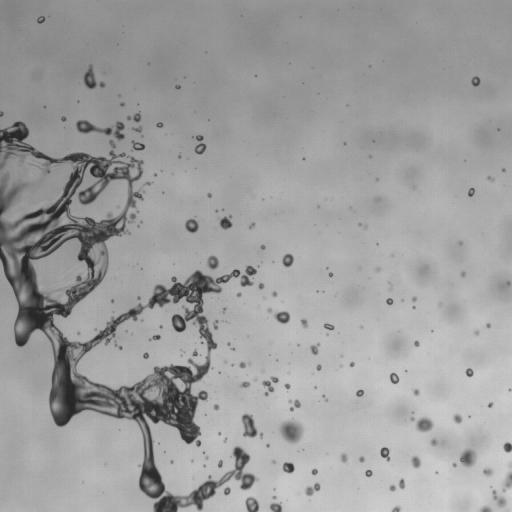droplet: (278, 417, 304, 443), (241, 412, 263, 439), (83, 64, 105, 89), (266, 306, 290, 324), (410, 416, 434, 433), (261, 376, 279, 396), (459, 448, 477, 467), (184, 216, 199, 233), (194, 134, 206, 154), (217, 214, 232, 230), (304, 482, 321, 496), (206, 254, 219, 272), (245, 496, 259, 511), (281, 253, 294, 267), (126, 110, 141, 122), (130, 140, 146, 151), (380, 446, 391, 462), (288, 398, 301, 411), (309, 342, 321, 355), (410, 455, 421, 468), (282, 462, 295, 473), (482, 466, 494, 477), (269, 501, 282, 511), (115, 140, 126, 151), (89, 147, 100, 158), (142, 186, 153, 197), (105, 235, 116, 246), (208, 268, 219, 279), (71, 302, 82, 313), (51, 313, 62, 324), (288, 314, 299, 325), (80, 331, 91, 342), (318, 335, 329, 346), (44, 357, 55, 368), (237, 369, 248, 380), (41, 380, 52, 391), (189, 382, 200, 393), (287, 388, 298, 399), (290, 410, 301, 421), (281, 411, 292, 422), (191, 413, 202, 424), (126, 418, 137, 429), (270, 422, 281, 433), (132, 430, 143, 441), (299, 430, 310, 441), (275, 434, 286, 445), (297, 434, 308, 445), (133, 453, 144, 464), (224, 458, 235, 469), (472, 459, 483, 470), (154, 460, 165, 471), (495, 469, 506, 480), (228, 477, 239, 488), (492, 477, 503, 488), (163, 483, 174, 494), (181, 484, 192, 495), (389, 372, 399, 384), (452, 413, 462, 424), (502, 441, 511, 452), (340, 452, 348, 464), (471, 76, 480, 86), (131, 125, 142, 133), (238, 381, 250, 388), (398, 477, 405, 489), (464, 368, 473, 377), (364, 468, 373, 477), (93, 73, 102, 82), (124, 119, 133, 128), (71, 144, 80, 153), (55, 149, 64, 158), (133, 150, 142, 159), (491, 168, 500, 177), (131, 181, 140, 190), (201, 266, 210, 275), (231, 276, 240, 285), (163, 280, 172, 289), (262, 285, 271, 294), (140, 295, 149, 304), (128, 299, 137, 308), (10, 305, 19, 314), (32, 328, 41, 337), (311, 354, 320, 363), (423, 410, 432, 419), (70, 413, 79, 422), (170, 427, 179, 436), (424, 429, 433, 438), (241, 444, 250, 453), (347, 453, 356, 462), (242, 464, 251, 473), (483, 475, 492, 484), (214, 485, 223, 494), (244, 487, 253, 496), (487, 499, 496, 508), (300, 318, 308, 328), (430, 437, 438, 446), (390, 505, 401, 511), (505, 488, 511, 499), (144, 505, 155, 511), (186, 505, 197, 511), (200, 505, 211, 511), (258, 505, 269, 511), (490, 505, 501, 511), (356, 389, 364, 397), (412, 388, 420, 396), (486, 175, 495, 182), (468, 187, 475, 196), (217, 459, 224, 468), (223, 486, 230, 495), (37, 16, 45, 23), (247, 222, 255, 229), (0, 119, 5, 130), (284, 383, 290, 392), (271, 290, 278, 297), (386, 298, 393, 305), (142, 352, 149, 359), (310, 468, 317, 475), (389, 484, 396, 491), (79, 82, 86, 89), (89, 118, 96, 125), (100, 122, 107, 129), (87, 130, 94, 137), (78, 131, 85, 138), (99, 132, 106, 139), (108, 132, 115, 139), (34, 144, 41, 151), (138, 176, 145, 183), (217, 211, 224, 218), (124, 222, 131, 229), (187, 267, 194, 274), (239, 268, 246, 275), (177, 276, 184, 283), (251, 282, 258, 289), (94, 284, 101, 291), (146, 290, 153, 297), (201, 291, 208, 298), (85, 292, 92, 299), (276, 305, 283, 312), (121, 306, 128, 313), (259, 307, 266, 314), (216, 312, 223, 319), (222, 312, 229, 319), (98, 323, 105, 330), (479, 325, 486, 332), (66, 335, 73, 342), (206, 368, 213, 375), (43, 389, 50, 396), (414, 413, 421, 420), (460, 413, 467, 420), (47, 416, 54, 423), (145, 417, 152, 424), (157, 419, 164, 426), (252, 420, 259, 427), (409, 421, 416, 428), (150, 432, 157, 439), (262, 435, 269, 442), (497, 445, 504, 452), (226, 447, 233, 454), (333, 454, 340, 461), (418, 455, 425, 462), (405, 459, 412, 466), (276, 461, 283, 468), (135, 466, 142, 473), (283, 471, 290, 478), (211, 474, 218, 481), (200, 475, 207, 482), (160, 476, 167, 483), (251, 481, 258, 488), (138, 490, 145, 497), (496, 490, 503, 497), (201, 498, 208, 505), (473, 328, 479, 336), (506, 165, 511, 174), (175, 506, 184, 511), (206, 191, 212, 198), (258, 282, 264, 289), (358, 456, 365, 462), (411, 296, 417, 302), (437, 301, 443, 307), (158, 324, 164, 330), (213, 404, 219, 410), (156, 122, 163, 127), (374, 267, 381, 272), (414, 340, 419, 347), (175, 84, 181, 89), (374, 197, 380, 202), (460, 271, 465, 277), (235, 292, 241, 297), (486, 322, 491, 328), (349, 361, 354, 367), (316, 364, 321, 370), (252, 376, 257, 382), (487, 402, 493, 407), (240, 507, 247, 511), (61, 116, 66, 121), (458, 240, 463, 245), (260, 244, 265, 249), (328, 272, 333, 277), (260, 368, 265, 373), (271, 459, 276, 464), (452, 462, 457, 467), (82, 67, 87, 72), (79, 78, 84, 83), (94, 78, 99, 83), (103, 79, 108, 84), (175, 80, 180, 85), (478, 81, 483, 86), (104, 82, 109, 87), (94, 83, 99, 88), (468, 83, 473, 88), (101, 86, 106, 91), (118, 97, 123, 102), (62, 111, 67, 116), (129, 112, 134, 117), (79, 115, 84, 120), (14, 116, 19, 121), (139, 116, 144, 121), (133, 122, 138, 127), (25, 123, 30, 128), (72, 126, 77, 131), (119, 129, 124, 134), (140, 129, 145, 134), (22, 137, 27, 142), (201, 138, 206, 143), (194, 139, 199, 144), (107, 145, 112, 150), (82, 148, 87, 153), (113, 149, 118, 154), (43, 150, 48, 155), (202, 150, 207, 155), (49, 153, 54, 158), (106, 154, 111, 159), (140, 163, 145, 168), (489, 171, 494, 176), (152, 176, 157, 181), (485, 179, 490, 184), (143, 184, 148, 189), (463, 188, 468, 193), (211, 192, 216, 197), (135, 213, 140, 218), (189, 214, 194, 219), (194, 216, 199, 221), (134, 217, 139, 222), (228, 217, 233, 222), (215, 219, 220, 224), (360, 219, 365, 224), (217, 225, 222, 230), (181, 226, 186, 231), (226, 226, 231, 231), (196, 227, 201, 232), (250, 227, 255, 232), (245, 228, 250, 233), (185, 230, 190, 235), (191, 231, 196, 236), (287, 249, 292, 254), (212, 251, 217, 256), (107, 257, 112, 262), (217, 257, 222, 262), (291, 260, 296, 265), (251, 263, 256, 268), (280, 264, 285, 269), (106, 267, 111, 272), (226, 269, 231, 274), (455, 270, 460, 275), (465, 271, 470, 276), (459, 276, 464, 281), (4, 280, 9, 285), (218, 281, 223, 286), (244, 284, 249, 289), (258, 288, 263, 293), (9, 290, 14, 295), (411, 291, 416, 296), (237, 296, 242, 301), (413, 300, 418, 305), (201, 303, 206, 308), (113, 313, 118, 318), (302, 314, 307, 319), (288, 316, 293, 321), (484, 318, 489, 323), (306, 319, 311, 324), (275, 320, 280, 325), (296, 320, 301, 325), (284, 321, 289, 326), (280, 322, 285, 327), (490, 322, 495, 327), (208, 326, 213, 331), (486, 327, 491, 332), (93, 330, 98, 335), (61, 332, 66, 337), (43, 336, 48, 341), (211, 336, 216, 341), (10, 337, 15, 342), (311, 340, 316, 345), (409, 340, 414, 345), (418, 340, 423, 345), (416, 345, 421, 350), (316, 346, 321, 351), (210, 348, 215, 353), (306, 348, 311, 353), (227, 358, 232, 363), (242, 358, 247, 363), (234, 360, 239, 365), (209, 361, 214, 366), (225, 362, 230, 367), (461, 366, 466, 371), (273, 372, 278, 377), (461, 372, 466, 377), (201, 374, 206, 379), (243, 376, 248, 381), (287, 379, 292, 384), (270, 381, 275, 386), (414, 384, 419, 389), (241, 386, 246, 391), (418, 389, 423, 394), (408, 390, 413, 395), (206, 391, 211, 396), (414, 394, 419, 399), (354, 395, 359, 400), (196, 398, 201, 403), (214, 399, 219, 404), (289, 402, 294, 407), (218, 403, 223, 408), (293, 406, 298, 411), (488, 406, 493, 411), (213, 409, 218, 414), (239, 410, 244, 415), (246, 410, 251, 415), (97, 412, 102, 417), (406, 412, 411, 417), (104, 414, 109, 419), (111, 416, 116, 421), (116, 417, 121, 422), (449, 418, 454, 423), (239, 427, 244, 432), (254, 433, 259, 438), (219, 434, 224, 439), (195, 435, 200, 440), (245, 435, 250, 440), (435, 436, 440, 441), (180, 439, 185, 444), (500, 439, 505, 444), (426, 441, 431, 446), (151, 442, 156, 447), (380, 442, 385, 447), (431, 445, 436, 450), (375, 449, 380, 454), (152, 451, 157, 456), (354, 454, 359, 459), (363, 455, 368, 460), (381, 456, 386, 461), (346, 457, 351, 462), (286, 458, 291, 463), (354, 458, 359, 463), (203, 459, 208, 464), (213, 460, 218, 465), (456, 460, 461, 465), (292, 462, 297, 467), (309, 464, 314, 469), (363, 465, 368, 470), (306, 469, 311, 474), (478, 470, 483, 475), (481, 473, 486, 478), (134, 479, 139, 484), (403, 479, 408, 484), (222, 482, 227, 487), (309, 482, 314, 487), (394, 482, 399, 487), (319, 483, 324, 488), (193, 484, 198, 489), (384, 484, 389, 489), (487, 488, 492, 493), (300, 489, 305, 494), (312, 489, 317, 494), (271, 490, 276, 495), (389, 490, 394, 495), (487, 491, 492, 496), (305, 494, 310, 499), (273, 498, 278, 503), (389, 503, 394, 508), (177, 152, 181, 158), (223, 437, 227, 443), (120, 102, 125, 106), (152, 172, 157, 176), (506, 280, 510, 285), (256, 304, 260, 309), (272, 495, 277, 499), (368, 154, 372, 158), (501, 168, 505, 172), (375, 177, 379, 181), (390, 253, 394, 257), (262, 296, 266, 300), (110, 299, 114, 303), (400, 298, 404, 302), (359, 325, 363, 329), (76, 331, 80, 335), (314, 385, 318, 389), (218, 431, 222, 435), (508, 439, 511, 444), (508, 450, 511, 455), (256, 508, 261, 511), (267, 508, 272, 511), (280, 508, 285, 511), (399, 508, 404, 511), (116, 205, 120, 208), (214, 209, 218, 212), (412, 305, 415, 309), (140, 318, 143, 322), (124, 329, 127, 333), (296, 343, 300, 346), (223, 360, 227, 363), (230, 363, 234, 366), (339, 364, 343, 367), (286, 371, 290, 374), (508, 387, 511, 391), (468, 414, 471, 418), (266, 443, 269, 447), (170, 459, 173, 463), (190, 459, 193, 463), (435, 470, 438, 474), (0, 260, 2, 265), (254, 74, 257, 77), (118, 94, 121, 97), (43, 105, 46, 108), (497, 128, 500, 131), (343, 142, 346, 145), (302, 157, 305, 160), (261, 198, 264, 201), (317, 205, 320, 208), (349, 206, 352, 209), (221, 208, 224, 211), (326, 266, 329, 269), (112, 310, 115, 313), (430, 329, 433, 332), (340, 354, 343, 357), (404, 369, 407, 372), (411, 411, 414, 414), (203, 464, 206, 467), (40, 12, 43, 15), (37, 13, 40, 16), (34, 16, 37, 19), (36, 22, 39, 25), (40, 22, 43, 25), (253, 71, 256, 74), (256, 72, 259, 75), (256, 75, 259, 78), (252, 76, 255, 79), (478, 76, 481, 79), (475, 85, 478, 88), (175, 88, 178, 91), (73, 99, 76, 102), (78, 101, 81, 104), (42, 102, 45, 105), (116, 102, 119, 105), (119, 105, 122, 108), (45, 106, 48, 109), (41, 107, 44, 110), (0, 108, 3, 111), (139, 111, 142, 114), (2, 113, 5, 116), (58, 115, 61, 118), (65, 116, 68, 119), (204, 118, 207, 121), (156, 119, 159, 122), (63, 120, 66, 123), (161, 120, 164, 123), (162, 123, 165, 126), (498, 125, 501, 128), (156, 126, 159, 129), (160, 126, 163, 129), (493, 128, 496, 131), (497, 130, 500, 133), (200, 132, 203, 135), (134, 139, 137, 142), (140, 140, 143, 143), (345, 140, 348, 143), (340, 142, 343, 145), (129, 143, 132, 146), (343, 144, 346, 147), (175, 152, 178, 155), (194, 152, 197, 155), (180, 153, 183, 156), (198, 153, 201, 156), (299, 155, 302, 158), (304, 155, 307, 158), (301, 159, 304, 162), (504, 166, 507, 169), (498, 168, 501, 171), (501, 171, 504, 174), (156, 172, 159, 175), (149, 183, 152, 186), (469, 184, 472, 187), (473, 186, 476, 189), (162, 188, 165, 191), (209, 190, 212, 193), (158, 191, 161, 194), (163, 192, 166, 195), (472, 193, 475, 196), (141, 194, 144, 197), (204, 195, 207, 198), (467, 195, 470, 198), (319, 204, 322, 207), (217, 207, 220, 210), (211, 209, 214, 212), (142, 219, 145, 222), (355, 220, 358, 223), (247, 222, 250, 225), (139, 223, 142, 226), (254, 223, 257, 226), (245, 225, 248, 228), (359, 226, 362, 229), (263, 242, 266, 245), (372, 242, 375, 245), (378, 242, 381, 245), (258, 247, 261, 250), (268, 259, 271, 262), (324, 263, 327, 266), (235, 266, 238, 269), (322, 266, 325, 269), (137, 267, 140, 270), (142, 267, 145, 270), (327, 269, 330, 272), (325, 273, 328, 276), (331, 275, 334, 278), (260, 280, 263, 283), (263, 283, 266, 286), (386, 283, 389, 286), (504, 283, 507, 286), (315, 286, 318, 289), (275, 289, 278, 292), (312, 289, 315, 292), (318, 290, 321, 293), (276, 293, 279, 296), (134, 295, 137, 298), (108, 296, 111, 299), (384, 296, 387, 299), (391, 296, 394, 299), (113, 299, 116, 302), (392, 300, 395, 303), (108, 301, 111, 304), (384, 302, 387, 305), (222, 304, 225, 307), (388, 304, 391, 307), (409, 306, 412, 309), (219, 308, 222, 311), (224, 309, 227, 312), (226, 318, 229, 321), (328, 321, 331, 324), (483, 324, 486, 327), (333, 326, 336, 329), (431, 326, 434, 329), (329, 329, 332, 332), (427, 329, 430, 332), (431, 331, 434, 334), (475, 335, 478, 338), (297, 340, 300, 343), (229, 344, 232, 347), (294, 345, 297, 348), (234, 346, 237, 349), (229, 349, 232, 352), (274, 355, 277, 358), (272, 358, 275, 361), (278, 358, 281, 361), (347, 360, 350, 363), (274, 361, 277, 364), (320, 366, 323, 369), (350, 366, 353, 369), (403, 366, 406, 369), (239, 367, 242, 370), (313, 367, 316, 370), (218, 368, 221, 371), (318, 369, 321, 372), (391, 369, 394, 372), (406, 370, 409, 373), (220, 371, 223, 374), (472, 371, 475, 374), (217, 373, 220, 376), (397, 374, 400, 377), (470, 375, 473, 378), (387, 378, 390, 381), (398, 378, 401, 381), (312, 382, 315, 385), (315, 383, 318, 386), (316, 386, 319, 389), (358, 386, 361, 389), (505, 386, 508, 389), (283, 387, 286, 390), (287, 388, 290, 391), (320, 391, 323, 394), (362, 393, 365, 396), (262, 394, 265, 397), (324, 394, 327, 397), (359, 395, 362, 398), (321, 397, 324, 400), (327, 398, 330, 401), (298, 399, 301, 402), (485, 402, 488, 405), (491, 404, 494, 407), (486, 406, 489, 409), (286, 407, 289, 410), (289, 410, 292, 413), (470, 415, 473, 418), (214, 431, 217, 434), (262, 434, 265, 437), (265, 440, 268, 443), (199, 443, 202, 446), (269, 443, 272, 446), (384, 444, 387, 447), (263, 445, 266, 448), (267, 446, 270, 449), (299, 449, 302, 452), (165, 450, 168, 453), (204, 451, 207, 454), (201, 453, 204, 456), (193, 459, 196, 462), (167, 460, 170, 463), (172, 460, 175, 463), (187, 460, 190, 463), (170, 463, 173, 466), (199, 463, 202, 466), (205, 463, 208, 466), (449, 463, 452, 466), (316, 467, 319, 470), (369, 467, 372, 470), (432, 469, 435, 472), (437, 469, 440, 472), (371, 470, 374, 473), (315, 472, 318, 475), (434, 473, 437, 476), (364, 475, 367, 478), (369, 475, 372, 478), (272, 484, 275, 487), (269, 487, 272, 490), (229, 490, 232, 493), (256, 265, 260, 267), (180, 353, 182, 357), (368, 65, 371, 67), (77, 100, 79, 103), (137, 102, 139, 105), (140, 135, 143, 137), (372, 140, 375, 142), (162, 191, 164, 194), (260, 261, 263, 263), (272, 260, 274, 263), (172, 263, 175, 265), (140, 267, 142, 270), (275, 359, 278, 361), (218, 371, 220, 374), (118, 428, 120, 431), (163, 450, 165, 453), (509, 280, 511, 283), (509, 390, 511, 393), (346, 104, 348, 106), (464, 159, 466, 161), (160, 170, 162, 172), (376, 243, 378, 245), (316, 290, 318, 292), (322, 290, 324, 292), (204, 413, 206, 415), (157, 442, 159, 444), (192, 477, 194, 479), (273, 488, 275, 490), (184, 76, 185, 78), (208, 119, 209, 121), (136, 263, 138, 264), (82, 481, 83, 482)
ligament: (75, 120, 125, 141), (489, 485, 507, 508), (501, 460, 511, 493), (238, 360, 251, 368), (477, 505, 493, 511), (148, 334, 161, 341), (114, 340, 122, 350), (227, 341, 235, 351), (212, 318, 218, 330), (358, 222, 367, 229), (202, 451, 209, 460), (387, 281, 392, 291), (321, 394, 327, 402), (222, 306, 227, 314), (137, 220, 142, 227), (0, 110, 4, 118), (179, 348, 185, 353), (221, 320, 229, 323), (503, 509, 510, 511), (131, 332, 132, 335), (192, 137, 194, 138)
